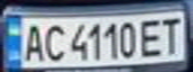0: (118, 18, 139, 58)
1: (84, 19, 106, 61), (103, 19, 121, 60)
4: (66, 20, 87, 62)
A: (18, 20, 48, 63)
C: (39, 20, 69, 63)
E: (136, 16, 166, 58)
T: (157, 13, 187, 55)
